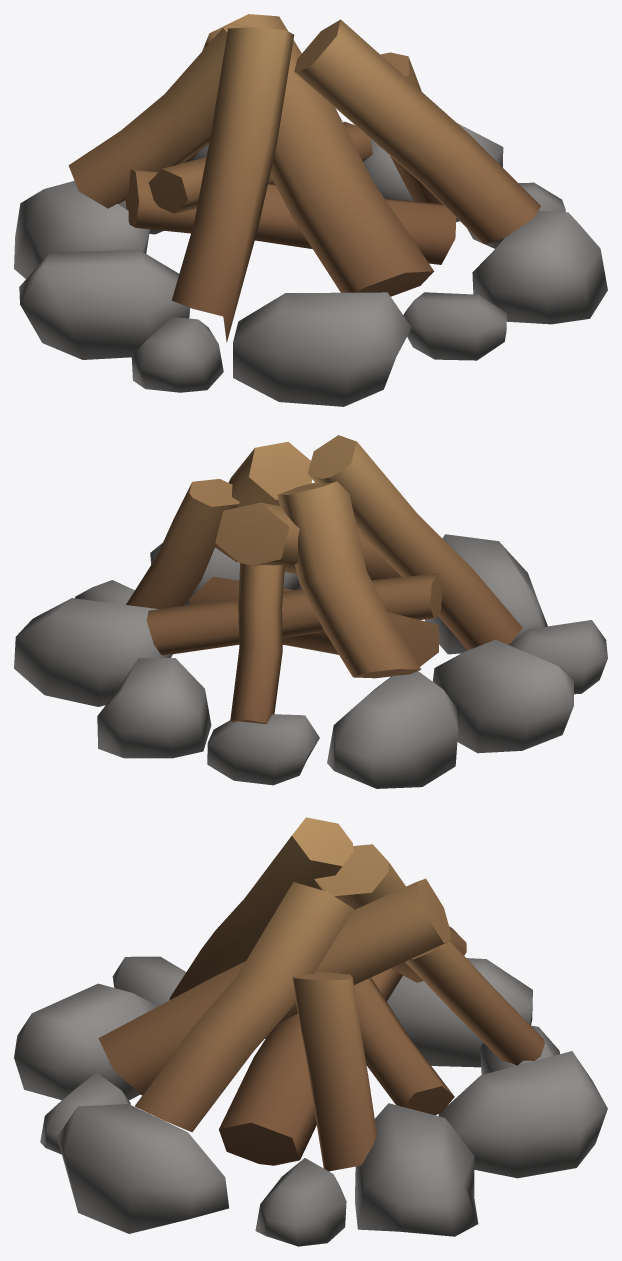
File: dungeonkit_decor_fireplace01.fbx
The picture shows the model from 3 angles, top to bottom: view 1: azimuth 30°, elevation 25°; view 2: azimuth 150°, elevation 25°; view 3: azimuth 270°, elevation 25°; orthographic projection. The views are drawn at different scales.
Parts seen in each view (by area): view 1: Cylinder.040; view 2: Cylinder.040; view 3: Cylinder.040.
Part boxes in pixels (box(x1,y1,x2,y2)): Cylinder.040: box(14, 14, 607, 406); Cylinder.040: box(14, 435, 607, 788); Cylinder.040: box(14, 817, 607, 1246).
Bounding box in the file's own units: 290 × 139 × 266.
